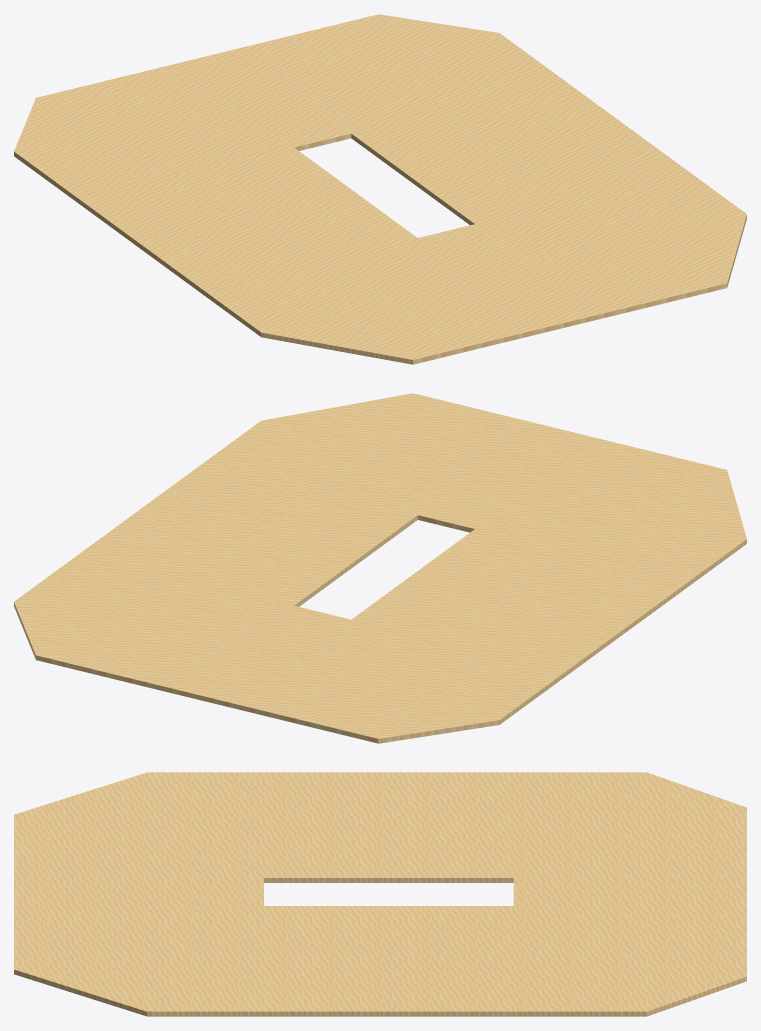
The model's file is seabed-21-CzN1DdiH.glb.
The picture shows the model from 3 angles, top to bottom: view 1: azimuth 30°, elevation 25°; view 2: azimuth 150°, elevation 25°; view 3: azimuth 270°, elevation 25°; orthographic projection.
Visible parts, largest first — view 1: SW_SandShelf; view 2: SW_SandShelf; view 3: SW_SandShelf.
Part boxes in pixels (left/top/right/bottom): SW_SandShelf: left=14, top=14, right=746, bottom=364; SW_SandShelf: left=14, top=393, right=746, bottom=743; SW_SandShelf: left=14, top=772, right=746, bottom=1016.
Size of what is drawn, in the model's own units: 34 by 0.32 by 44.
Materials: 1 (1 with a texture image).
